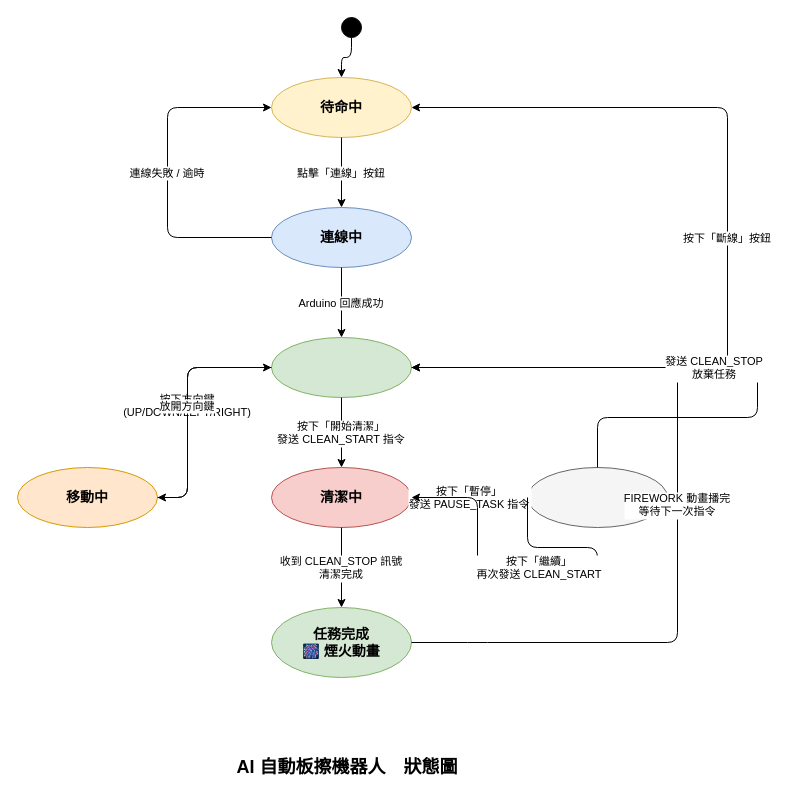
Some shapes in this 790 by 805 pixel diagram are drawn without their labels. Here are the shapes that lost their labels. From the top down, the centre of each, then its label:
the point at 341,367: 已連線
the point at 597,497: 暫停
